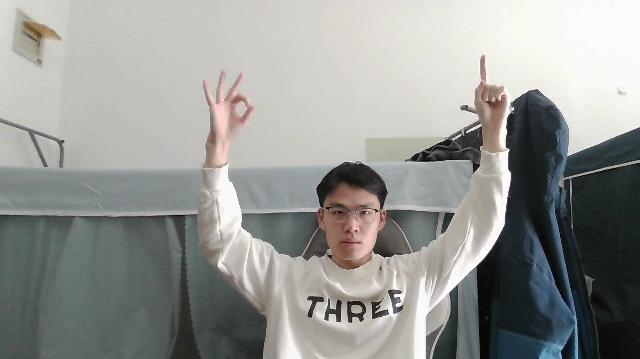ok: (200, 69, 255, 144)
one: (475, 52, 510, 128)
